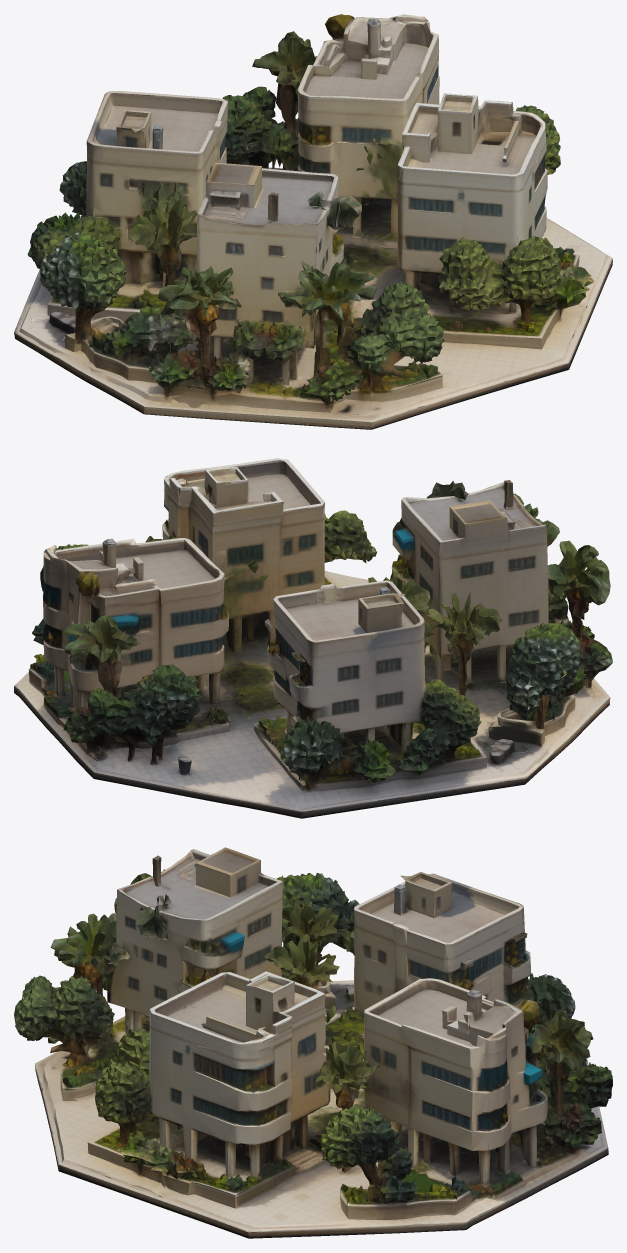
Rendered from city_1950s_bauhaus.glb.
3 renders of one model, top to bottom at view 1: azimuth 30°, elevation 25°; view 2: azimuth 150°, elevation 25°; view 3: azimuth 270°, elevation 25°, orthographic. The views are drawn at different scales.
Visible parts, largest first — view 1: geometry_0; view 2: geometry_0; view 3: geometry_0.
Boxes of the visible parts, <box> form: geometry_0: <box>14,14,612,429</box>; geometry_0: <box>14,458,612,818</box>; geometry_0: <box>14,847,612,1238</box>.
Size of the model in its own units: 1.01 by 0.3638 by 1.
1 material, 1 textured.
